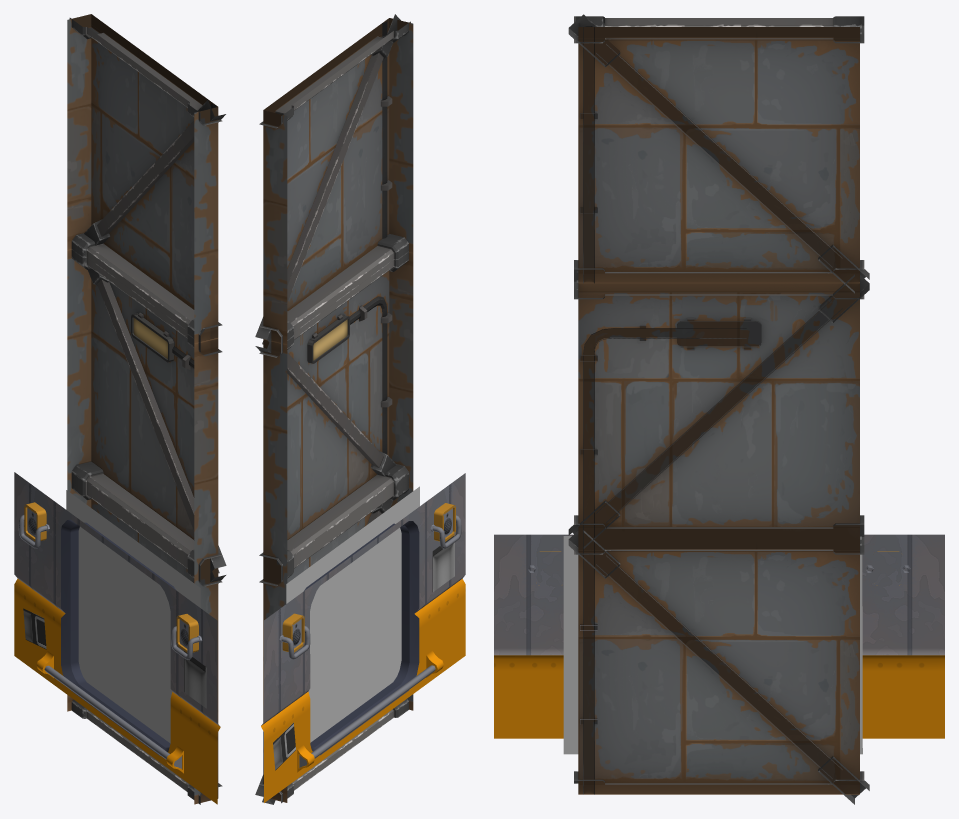
Rendered from obj_building_elevatorwallright.fbx.
3 views of the same model, side by side, from view 1: azimuth 30°, elevation 25°; view 2: azimuth 150°, elevation 25°; view 3: azimuth 270°, elevation 25° (orthographic). The views are drawn at different scales.
Parts seen in each view (by area): view 1: obj_building_elevatorwallright; view 2: obj_building_elevatorwallright; view 3: obj_building_elevatorwallright.
Part boxes in pixels (x1,y1,x2,y2): obj_building_elevatorwallright: (14,14,226,804); obj_building_elevatorwallright: (255,14,465,804); obj_building_elevatorwallright: (494,14,944,804).
Bounding box in the file's own units: 3.76 × 46.07 × 24.
